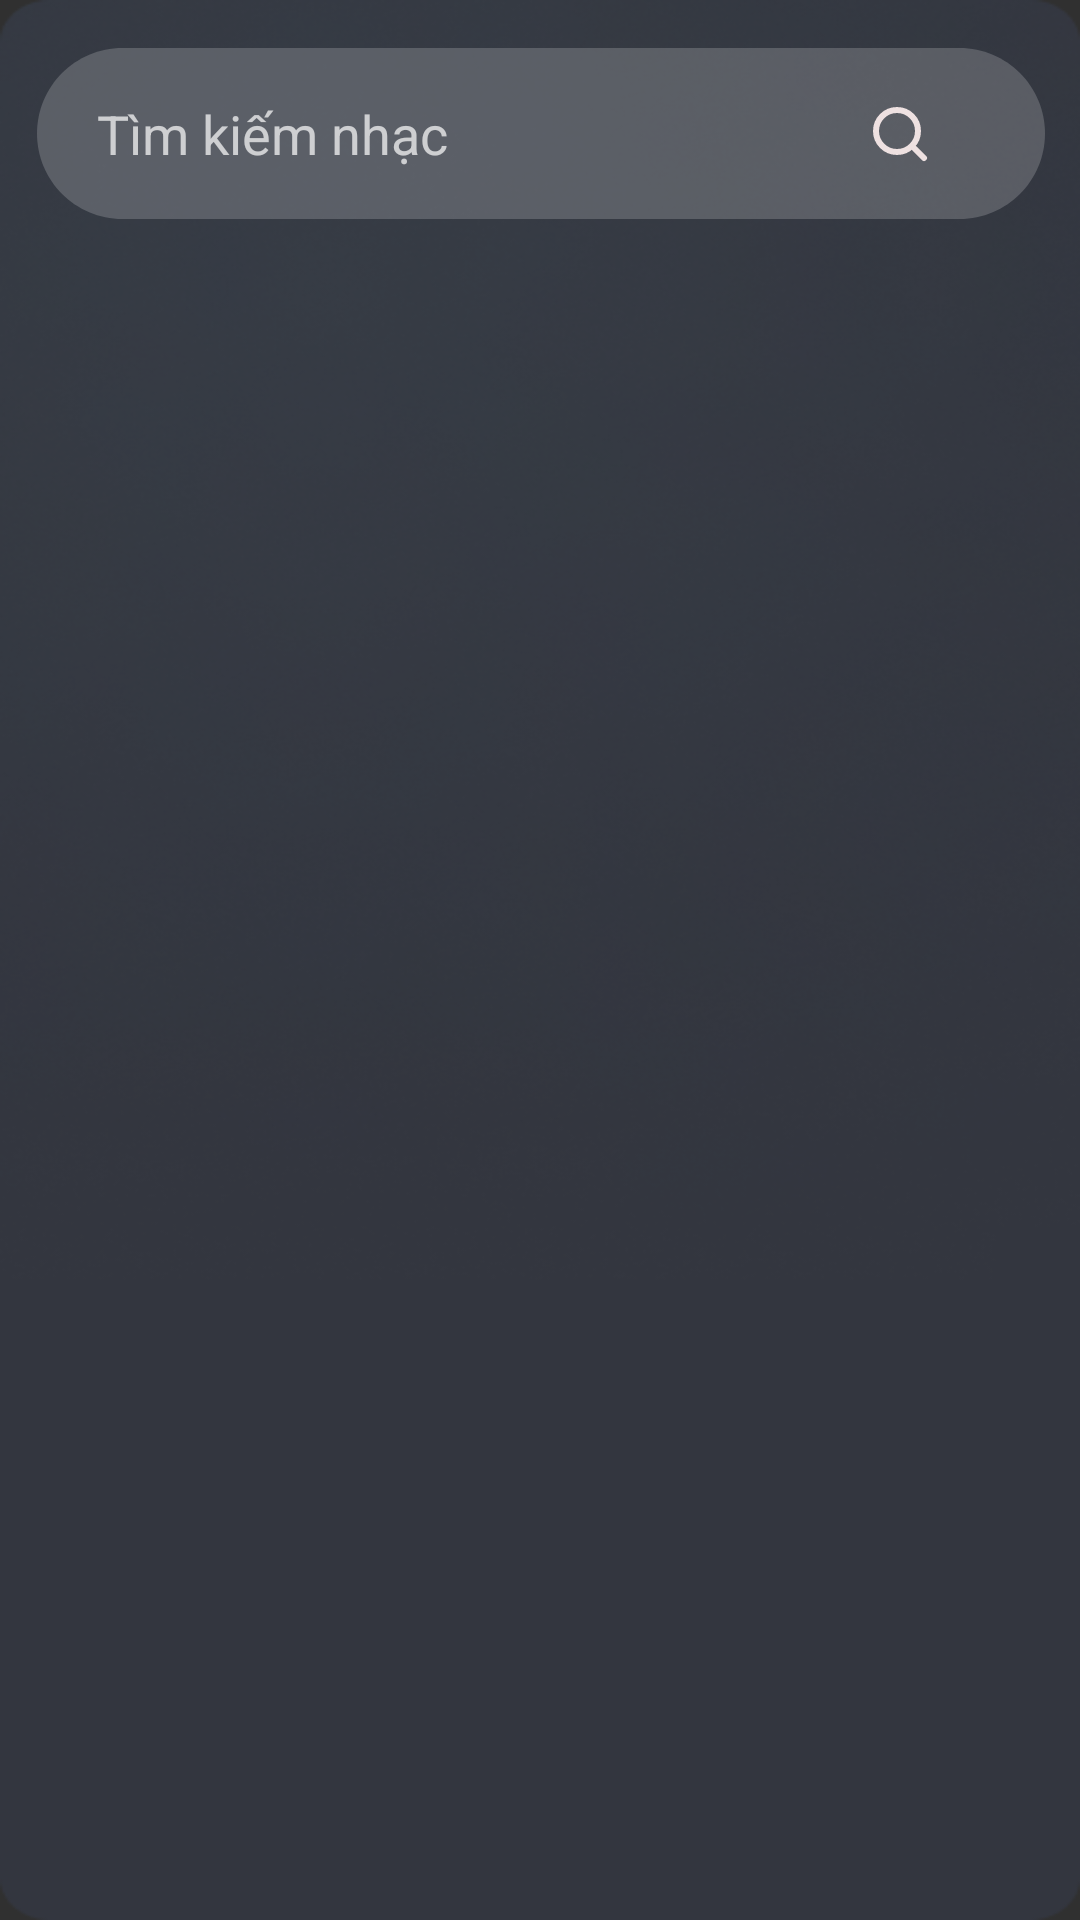

Named icons in this screenshot (1080x1920) and their bounding boxes, {"x1": x1, "y1": y1, "x2": x2, "y2": y2}:
search: {"x1": 873, "y1": 107, "x2": 927, "y2": 161}
